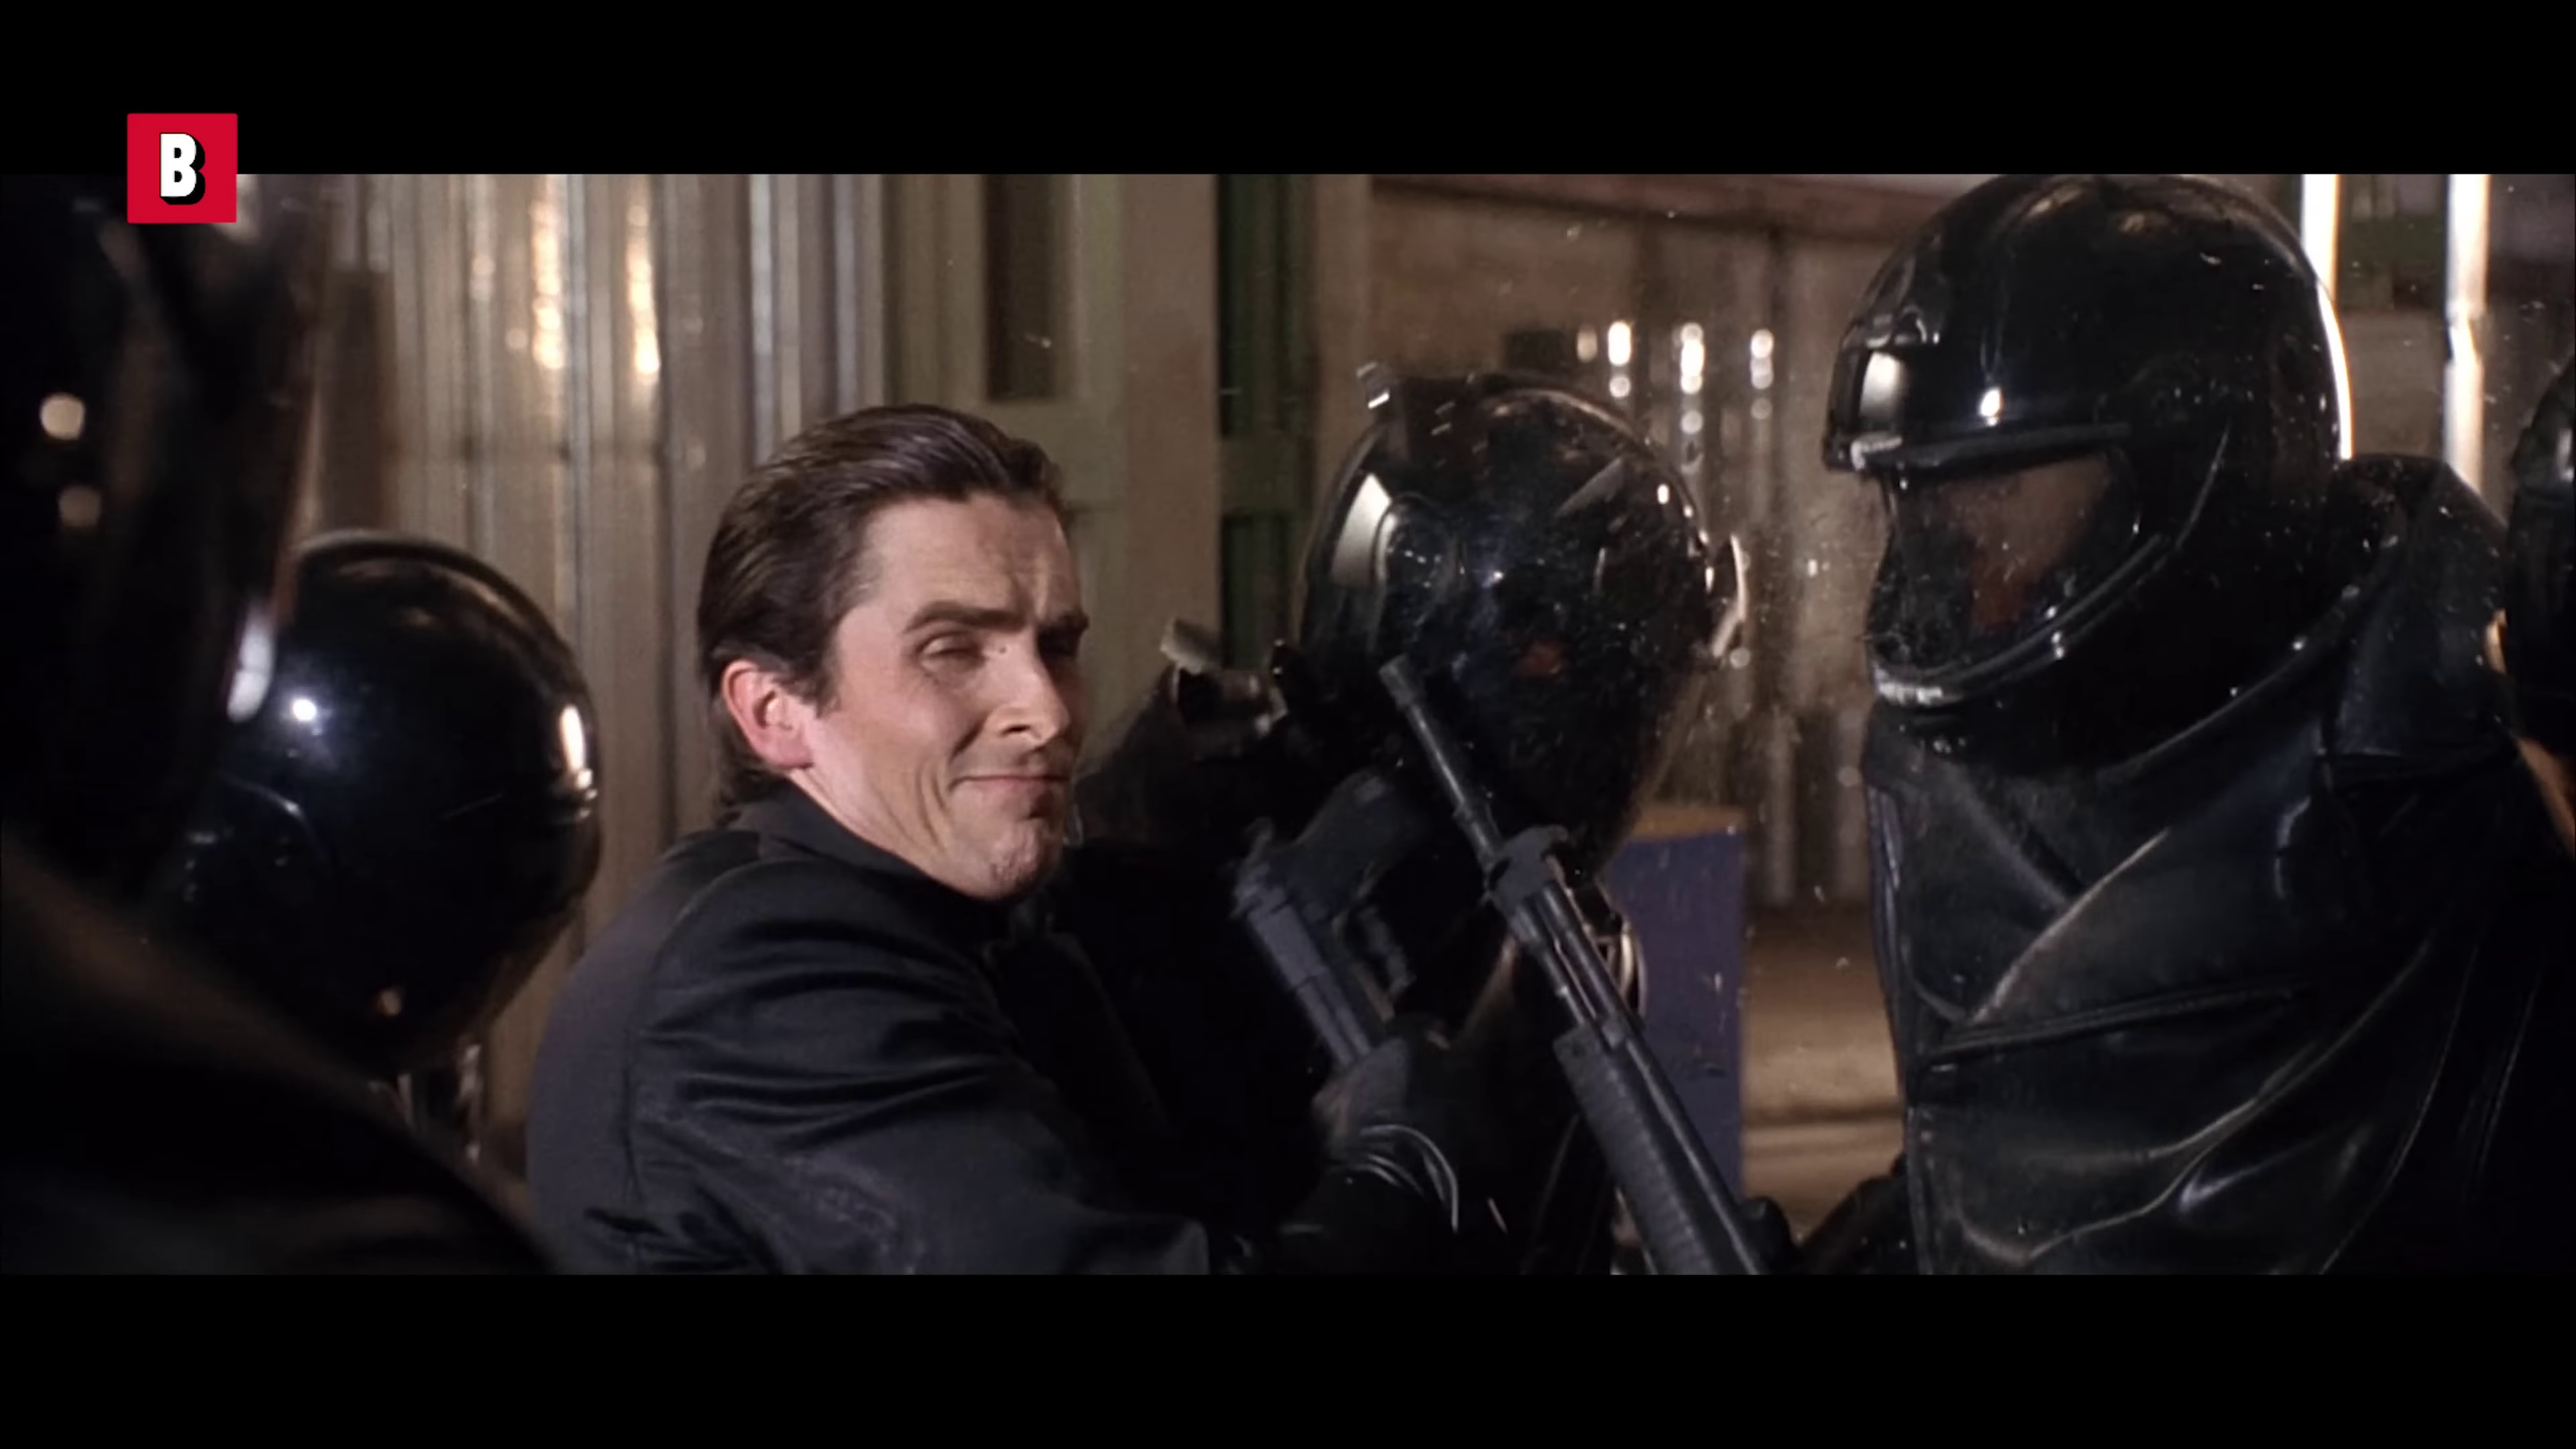gun: (1339, 626, 1790, 1277), (1224, 748, 1440, 1092)
p_w_gun: (1392, 157, 2576, 1277), (522, 400, 1525, 1283)
